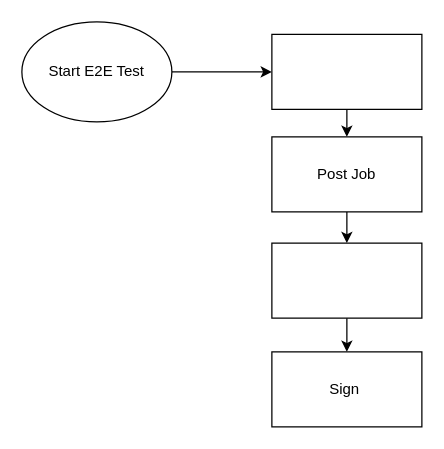
Image size: 444x449. Some labels were removed from this diagram. The shapes that lost their labels are listed below. From the top down, each one's box as (x1, y1, x2, y2) in pixels, then its label:
(271, 33, 422, 109): Register Job Manager
(271, 242, 422, 318): Register Freelancer
